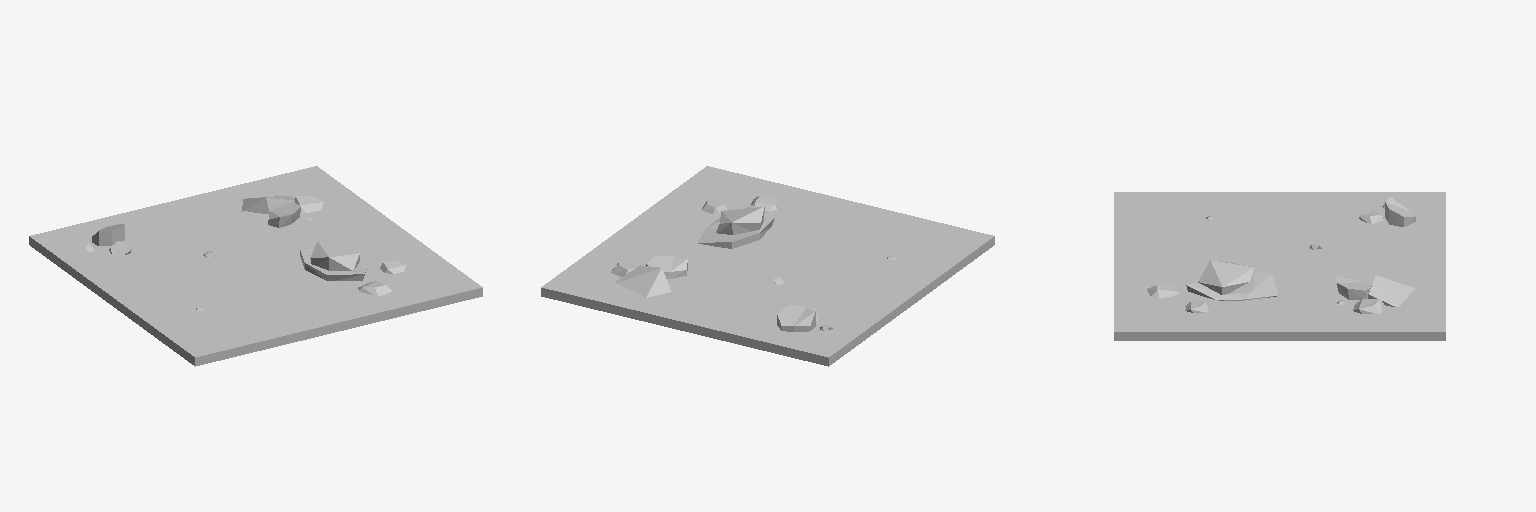
File: floor_dirt_large_rocky.obj
3 views of the same model, side by side, from view 1: azimuth 30°, elevation 25°; view 2: azimuth 150°, elevation 25°; view 3: azimuth 270°, elevation 25° (orthographic).
Parts seen in each view (by area): view 1: floor_dirt_large_rocky_Cube.15025; view 2: floor_dirt_large_rocky_Cube.15025; view 3: floor_dirt_large_rocky_Cube.15025.
Boxes of the visible parts, x1,y1,x2,y2 form: floor_dirt_large_rocky_Cube.15025: [29, 166, 482, 366]; floor_dirt_large_rocky_Cube.15025: [541, 166, 994, 366]; floor_dirt_large_rocky_Cube.15025: [1114, 192, 1445, 340].
Bounding box in the file's own units: 4 × 0.3928 × 4.